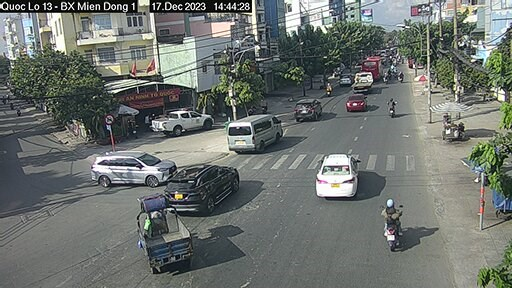car: (160, 163, 253, 214), (83, 147, 178, 184), (221, 117, 295, 150), (316, 150, 358, 198), (153, 111, 217, 136), (294, 97, 318, 120), (347, 93, 368, 108)
motorbike: (378, 198, 404, 247), (388, 99, 397, 115)
